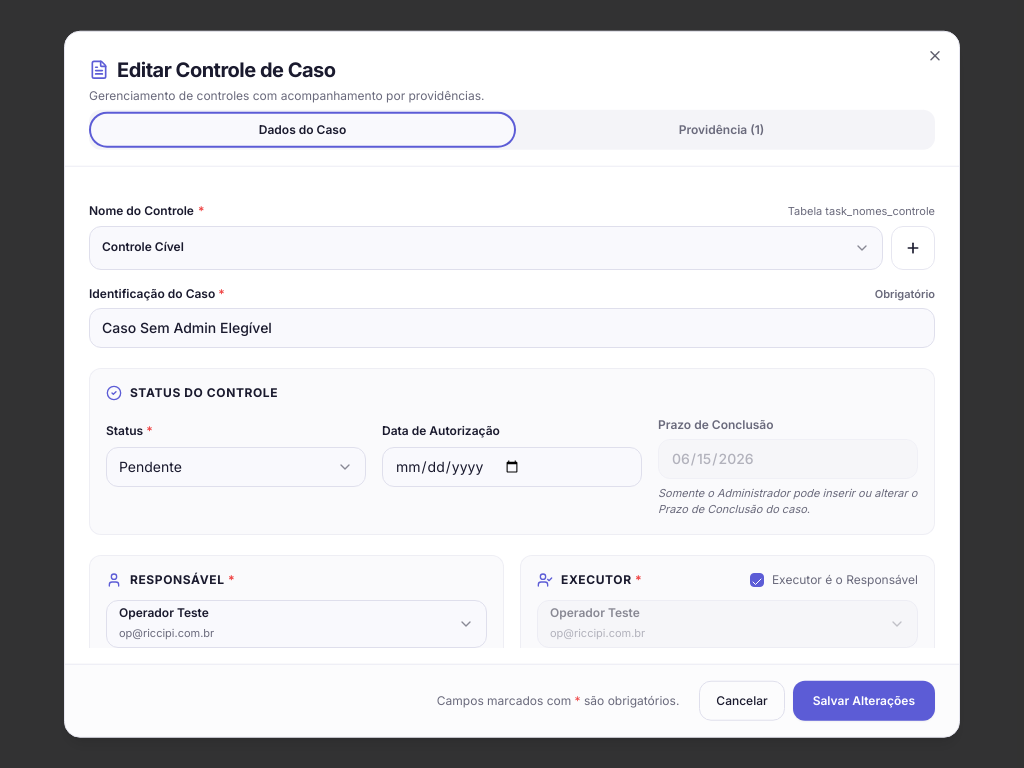
ControleModal - Fluxo de Solicitação de Adiamento › bloqueia envio se a lista de administradores elegíveis for vazia e explica os critérios
This screenshot has width=1024, height=768.
Expected: the field showing "Caso Sem Admin Elegível" is shown, left=89, top=307, right=935, bottom=347
Press the mouse on the tab "Providência (1)": (722, 130) left=512, top=116, right=931, bottom=144
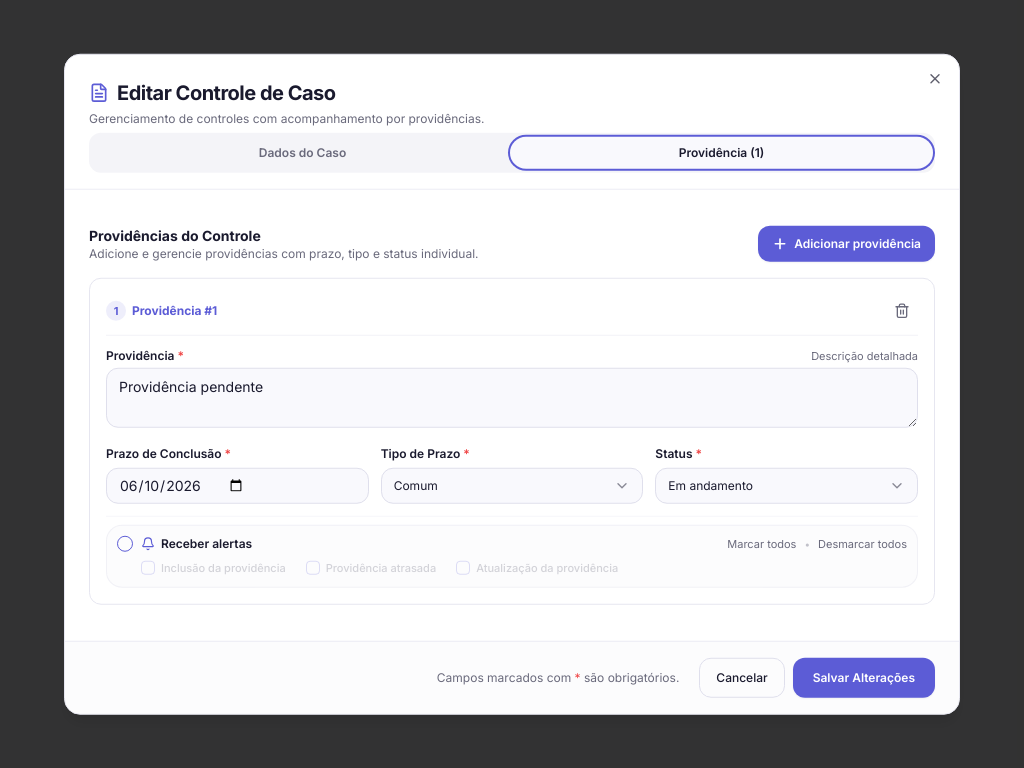
Result: the date field is shown
In the date field: (237, 486) left=106, top=468, right=369, bottom=504, type "2026-06-30"
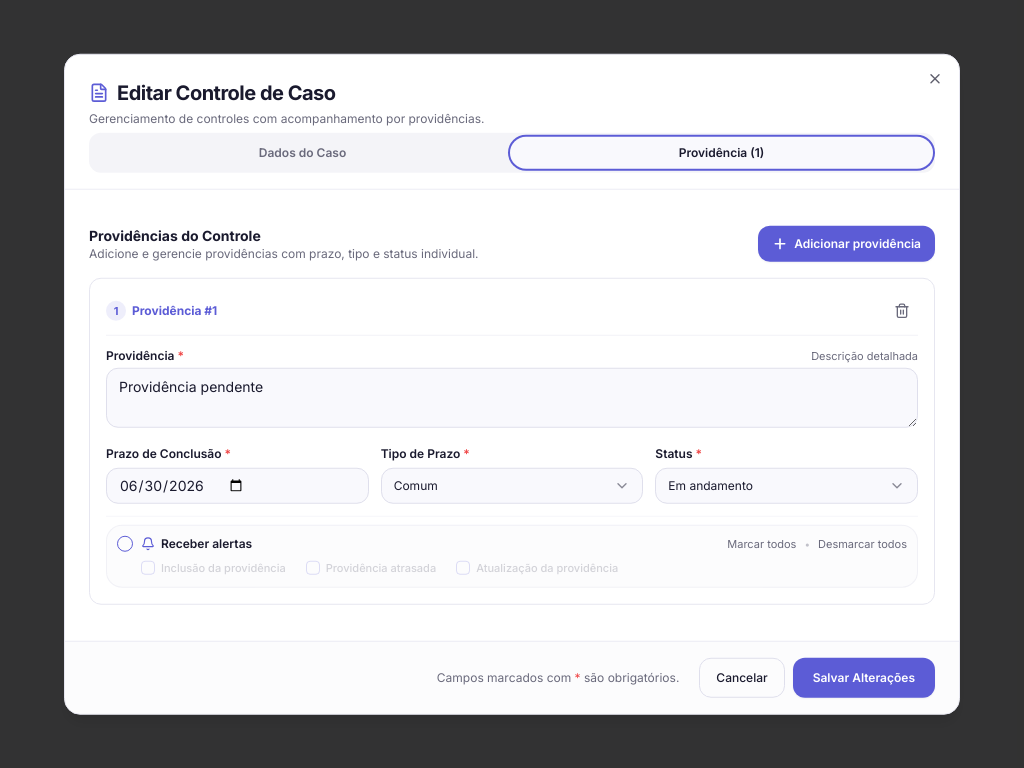
Press the mouse on the tab "Dados do Caso": (302, 153) left=93, top=139, right=512, bottom=167
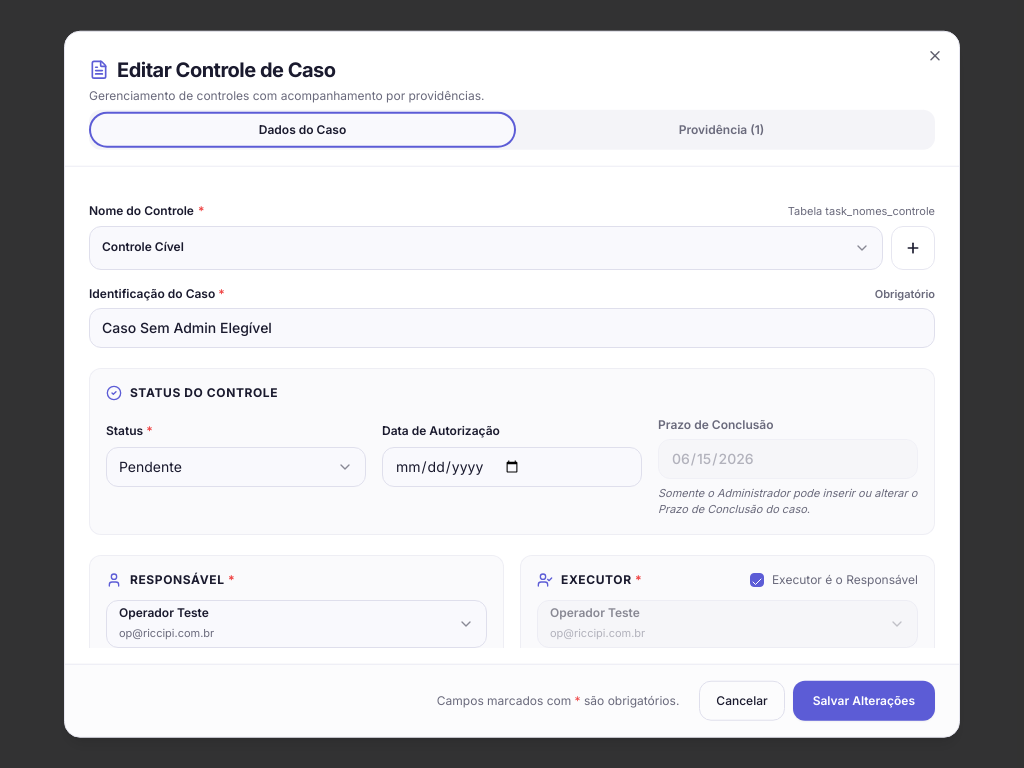
Click the button "Salvar Alterações": (864, 700) left=793, top=680, right=935, bottom=720
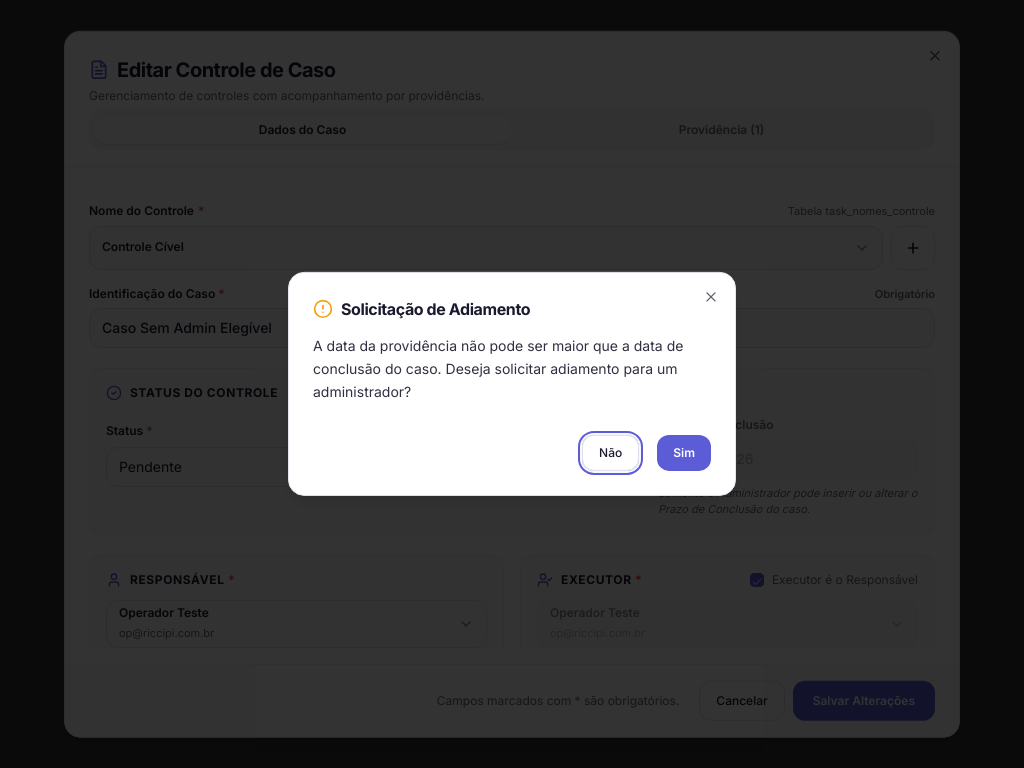
Click the button "Sim": (684, 453) left=657, top=435, right=711, bottom=471
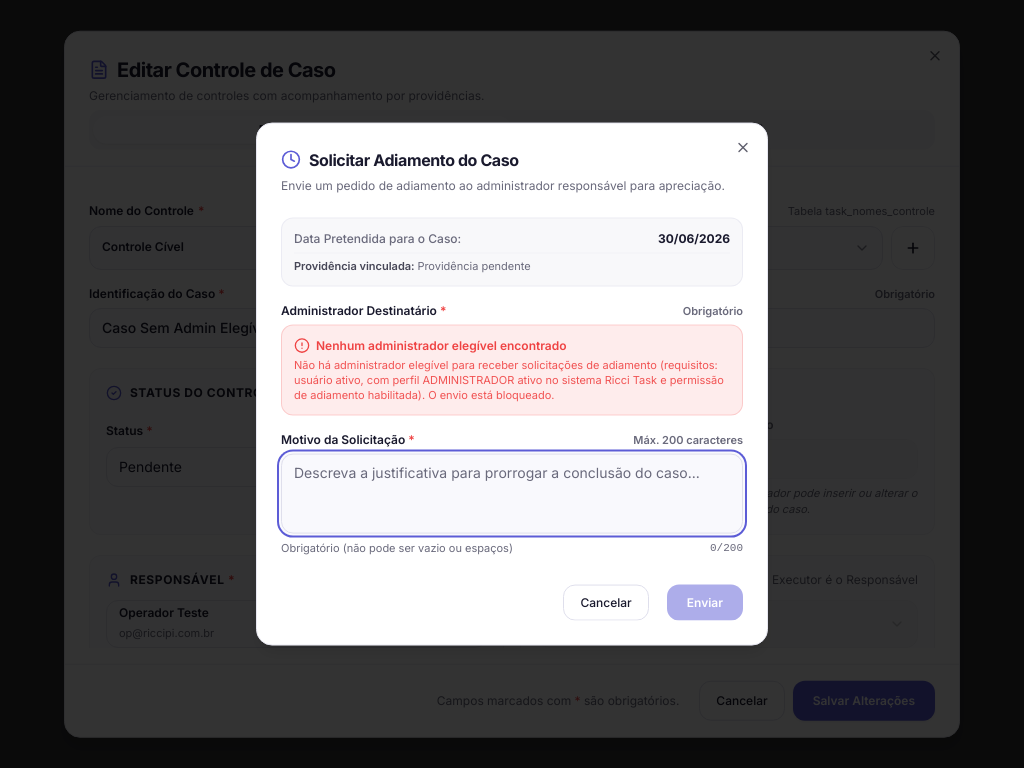
Result: the text "Não há administrador elegível para receber solicitações de adiamento" is shown at left=294, top=358, right=724, bottom=402
Result: the button "Enviar" is disabled at left=667, top=584, right=743, bottom=620
